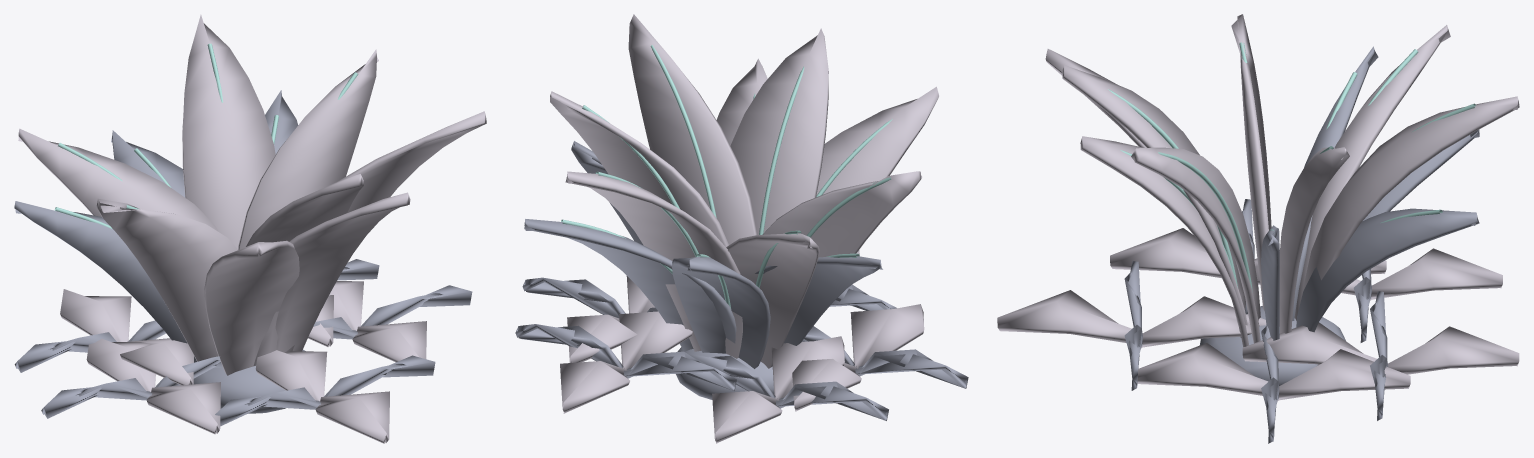
The model's file is bio_mist_leaf_25_far.glb.
3 views of the same model, side by side, from view 1: azimuth 30°, elevation 25°; view 2: azimuth 150°, elevation 25°; view 3: azimuth 270°, elevation 25° (orthographic). The views are drawn at different scales.
Parts seen in each view (by area): view 1: Cupped condensate leaf.011, Cupped condensate leaf.004, Cupped condensate leaf.008, Cupped condensate leaf.007, Cupped condensate leaf.010, Cupped condensate leaf.001, Cupped condensate leaf.009, Low buttress leaf.009, Low buttress leaf.005, Low buttress leaf.017, Cupped condensate leaf.002, Cupped condensate leaf.005 (+10 smaller); view 2: Cupped condensate leaf.002, Cupped condensate leaf.005, Cupped condensate leaf.011, Cupped condensate leaf.006, Cupped condensate leaf.004, Cupped condensate leaf.008, Cupped condensate leaf.007, Cupped condensate leaf.001, Cupped condensate leaf.003, Low buttress leaf.013, Low buttress leaf.017, Low buttress leaf.005 (+14 smaller); view 3: Cupped condensate leaf.011, Low buttress leaf.001, Low buttress leaf.009, Cupped condensate leaf.003, Low buttress leaf.013, Cupped condensate leaf.005, Cupped condensate leaf.001, Cupped condensate leaf.002, Cupped condensate leaf.010, Cupped condensate leaf.008, Cupped condensate leaf.004, Low buttress leaf.005 (+12 smaller).
Boxes of the visible parts, box(x1,y1,x2,y2) form: Cupped condensate leaf.011: box(182, 14, 275, 248); Cupped condensate leaf.004: box(96, 198, 237, 361); Cupped condensate leaf.008: box(238, 49, 378, 249); Cupped condensate leaf.007: box(204, 240, 299, 375); Cupped condensate leaf.010: box(275, 192, 410, 352); Cupped condensate leaf.001: box(18, 128, 217, 231); Cupped condensate leaf.009: box(14, 201, 196, 362); Low buttress leaf.009: box(255, 350, 389, 443); Low buttress leaf.005: box(60, 289, 193, 385); Low buttress leaf.017: box(86, 335, 220, 434); Cupped condensate leaf.002: box(246, 174, 363, 365); Cupped condensate leaf.005: box(302, 111, 486, 350); Cupped condensate leaf.002: box(730, 28, 828, 235); Cupped condensate leaf.005: box(628, 14, 757, 244); Cupped condensate leaf.011: box(565, 171, 742, 358); Cupped condensate leaf.006: box(672, 256, 770, 368); Cupped condensate leaf.004: box(762, 171, 922, 257); Cupped condensate leaf.008: box(550, 91, 728, 246); Cupped condensate leaf.007: box(816, 86, 938, 195); Cupped condensate leaf.001: box(726, 233, 819, 368); Cupped condensate leaf.003: box(524, 219, 736, 351); Low buttress leaf.013: box(560, 311, 692, 413); Low buttress leaf.017: box(792, 304, 924, 411); Low buttress leaf.005: box(712, 336, 844, 443); Cupped condensate leaf.011: box(1303, 96, 1519, 291); Low buttress leaf.001: box(1137, 343, 1410, 401); Low buttress leaf.009: box(997, 290, 1266, 348); Cupped condensate leaf.003: box(1296, 208, 1479, 332); Low buttress leaf.013: box(1242, 322, 1519, 374); Cupped condensate leaf.005: box(1131, 147, 1260, 343); Cupped condensate leaf.001: box(1294, 25, 1450, 320); Cupped condensate leaf.002: box(1062, 65, 1244, 337); Cupped condensate leaf.010: box(1080, 136, 1248, 347); Cupped condensate leaf.008: box(1279, 147, 1349, 333); Cupped condensate leaf.004: box(1231, 14, 1271, 311); Low buttress leaf.005: box(1254, 248, 1502, 300).
Bounding box in the file's own units: 2.22 × 1.42 × 2.1.
